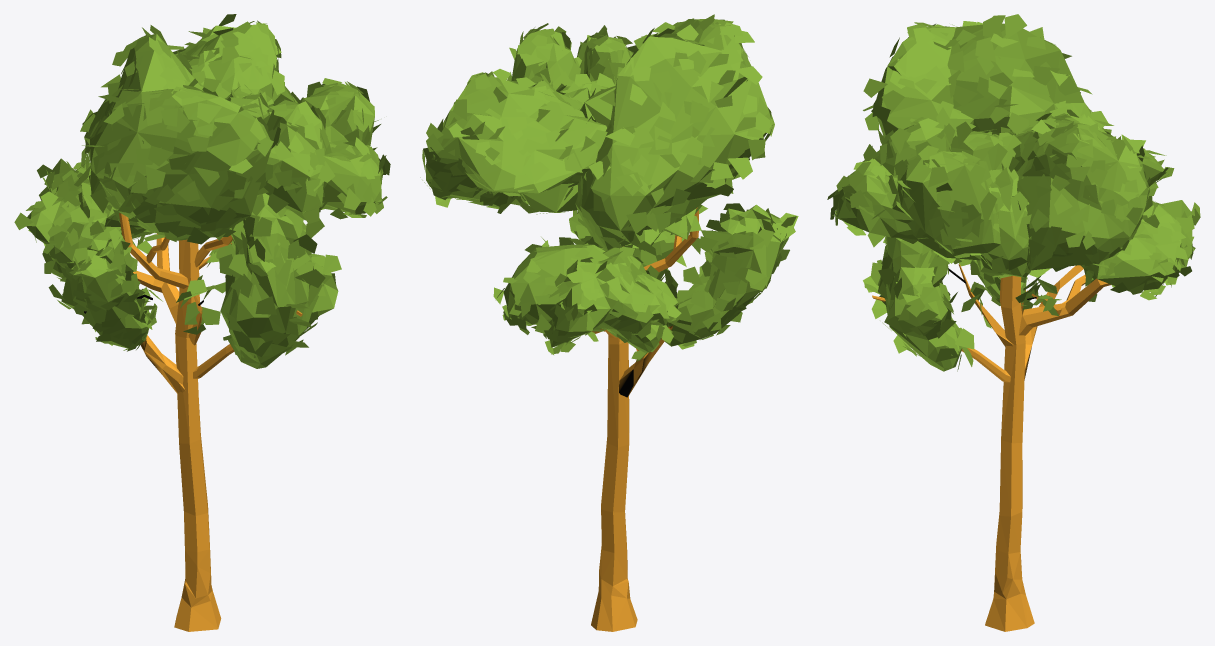
Rendered from SM_Tree_London_Planetree_B.fbx.
The picture shows the model from 3 angles, left to right: view 1: azimuth 30°, elevation 25°; view 2: azimuth 150°, elevation 25°; view 3: azimuth 270°, elevation 25°; orthographic projection. The views are drawn at different scales.
Visible parts, largest first — view 1: SM_Tree_London_Planetree_B; view 2: SM_Tree_London_Planetree_B; view 3: SM_Tree_London_Planetree_B.
Boxes of the visible parts, box(x1,y1,x2,y2) form: SM_Tree_London_Planetree_B: box(14, 14, 390, 631); SM_Tree_London_Planetree_B: box(420, 14, 798, 631); SM_Tree_London_Planetree_B: box(827, 14, 1200, 631).
Size of the model in its own units: 4.41 by 8.66 by 4.98.
